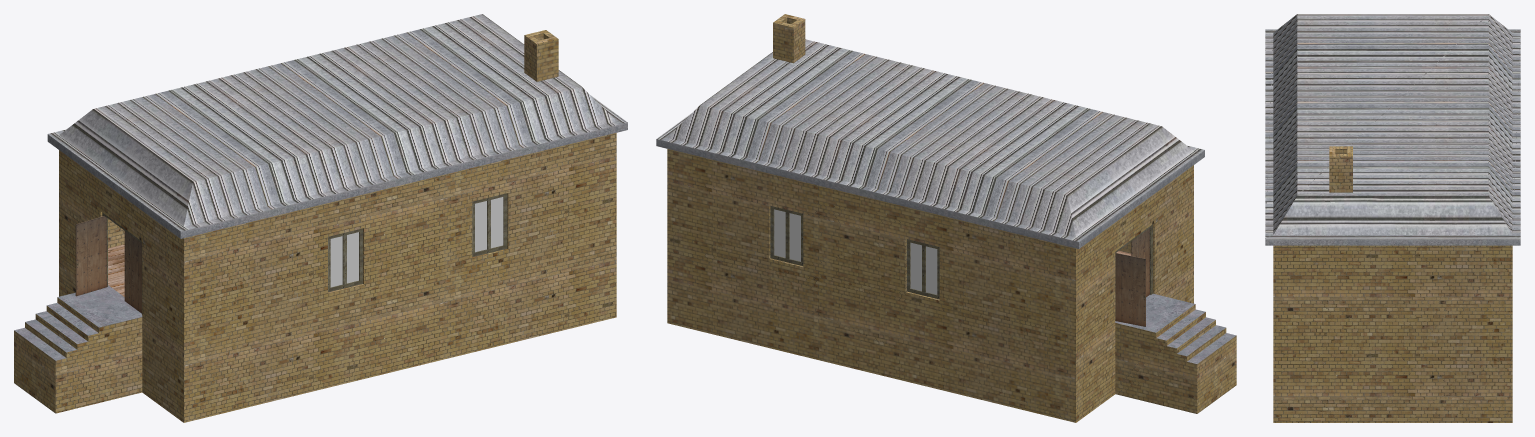
Rendered from house01.fbx.
3 views of the same model, side by side, from view 1: azimuth 30°, elevation 25°; view 2: azimuth 150°, elevation 25°; view 3: azimuth 270°, elevation 25° (orthographic). The views are drawn at different scales.
Parts seen in each view (by area): view 1: House01; view 2: House01; view 3: House01.
Part boxes in pixels (x1,y1,x2,y2): House01: (14, 14, 627, 422); House01: (656, 14, 1236, 422); House01: (1265, 14, 1520, 422).
Bounding box in the file's own units: 1460 × 700 × 640.
